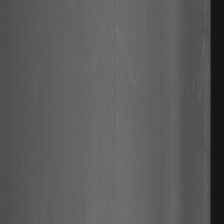silk_spot: (190, 38, 207, 109)
